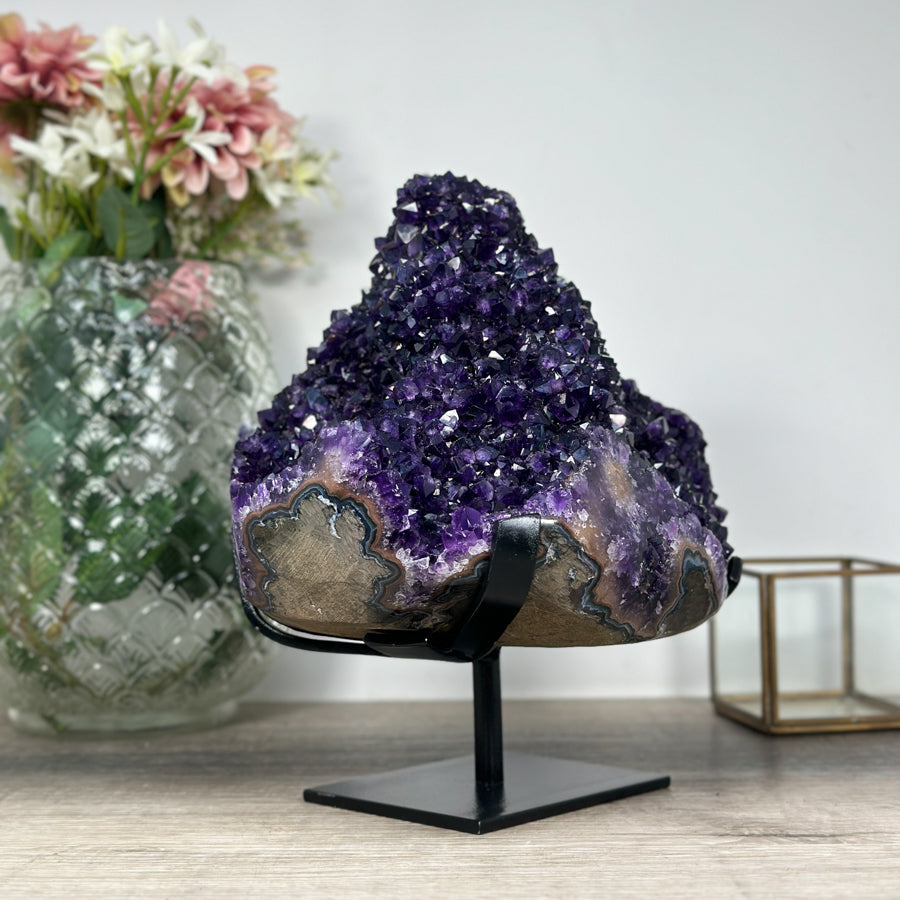Amethyst: (229, 168, 748, 646)
